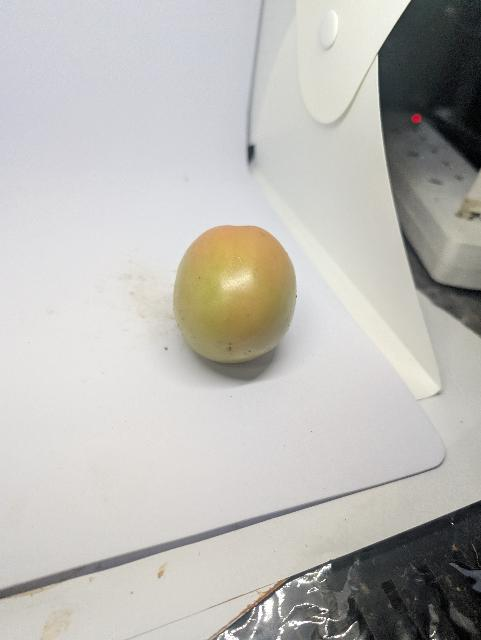breaker: (171, 220, 304, 364)
